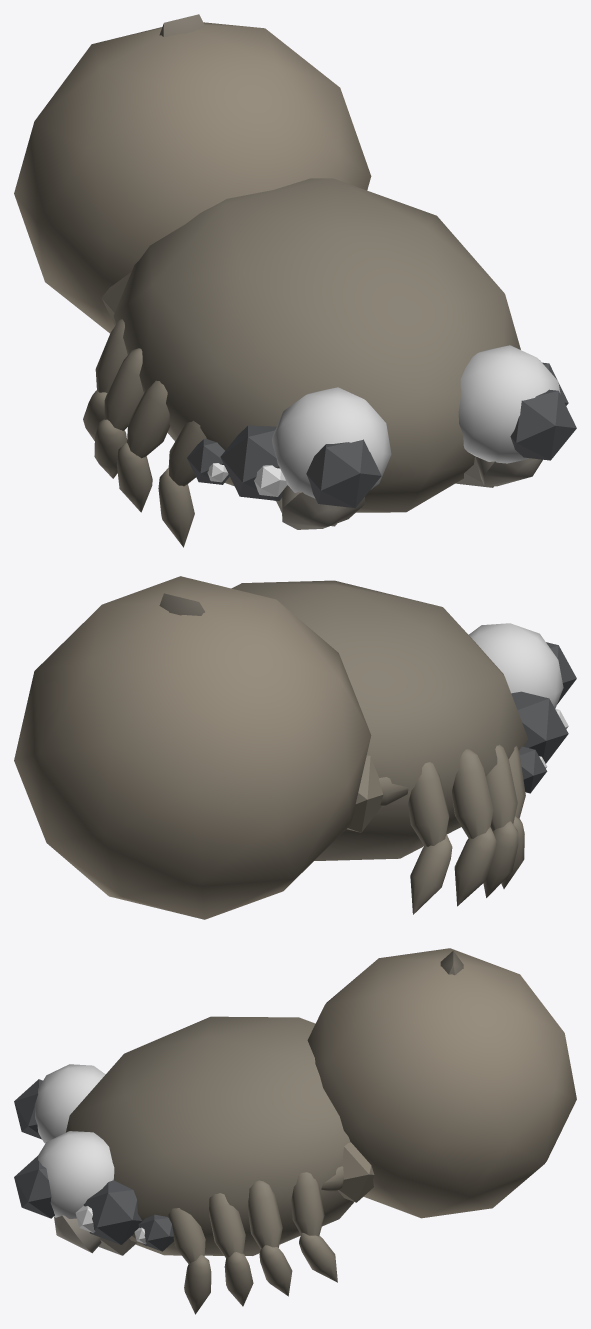
Rendered from plexippus-petersi.glb.
The picture shows the model from 3 angles, top to bottom: view 1: azimuth 30°, elevation 25°; view 2: azimuth 150°, elevation 25°; view 3: azimuth 270°, elevation 25°; orthographic projection. The views are drawn at different scales.
Parts seen in each view (by area): view 1: cephalothorax, abdomen, eye0-r, eye0-l, leg1-r0, eye1-r, leg2-r0, leg0-r0, leg3-r0, palp-r1, eye2-r, palp-l1; view 2: abdomen, cephalothorax, eye0-r, leg3-r0, leg2-r0, leg1-r0, eye1-r, leg0-r0, eye2-r; view 3: abdomen, cephalothorax, eye0-l, eye0-r, leg3-l0, leg2-l0, eye1-l, leg1-l0, leg0-l0, eye2-l, palp-l1.
Part boxes in pixels (x1,y1,x2,y2): cephalothorax: (101, 178, 520, 526); abdomen: (14, 14, 371, 333); eye0-r: (272, 387, 391, 508); eye0-l: (458, 345, 576, 463); leg1-r0: (117, 380, 170, 512); eye1-r: (220, 425, 287, 500); leg2-r0: (94, 348, 144, 478); leg0-r0: (158, 420, 206, 547); leg3-r0: (83, 319, 127, 440); palp-r1: (281, 485, 364, 529); eye2-r: (187, 439, 229, 484); palp-l1: (475, 456, 542, 486); abdomen: (14, 576, 371, 919); cephalothorax: (231, 580, 528, 860); eye0-r: (469, 623, 576, 708); leg3-r0: (379, 762, 452, 914); leg2-r0: (452, 749, 496, 906); leg1-r0: (483, 744, 518, 897); eye1-r: (511, 691, 568, 763); leg0-r0: (501, 746, 525, 888); eye2-r: (519, 746, 547, 793); abdomen: (307, 948, 576, 1218); cephalothorax: (66, 1016, 374, 1255); eye0-l: (14, 1131, 114, 1218); eye0-r: (14, 1064, 105, 1143); leg3-l0: (291, 1166, 343, 1282); leg2-l0: (248, 1180, 292, 1296); eye1-l: (75, 1180, 142, 1244); leg1-l0: (209, 1193, 253, 1306); leg0-l0: (167, 1208, 211, 1314); eye2-l: (134, 1214, 173, 1251); palp-l1: (54, 1215, 101, 1253).
Bounding box in the file's own units: 0.219 × 0.1958 × 0.3382.
